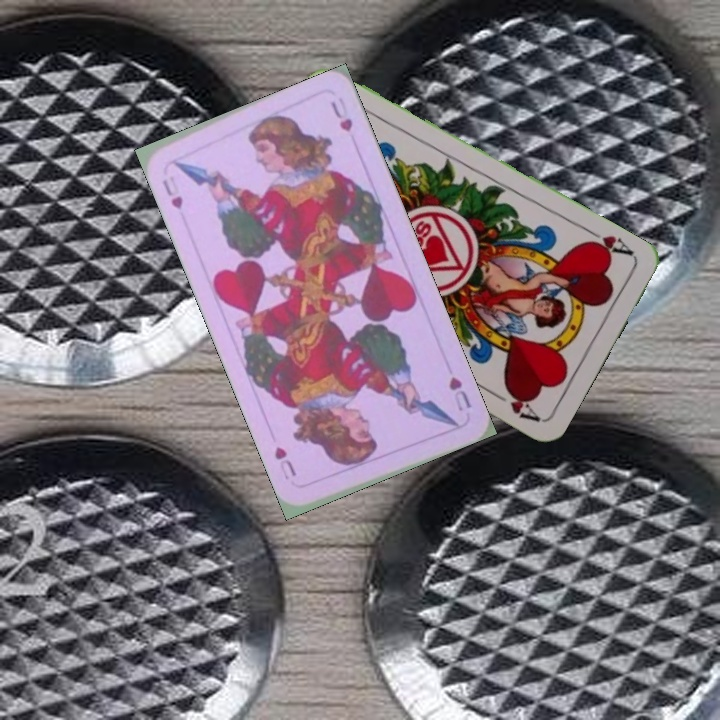HA: (580, 224, 636, 260)
HU: (444, 372, 475, 414), (158, 175, 186, 213)
